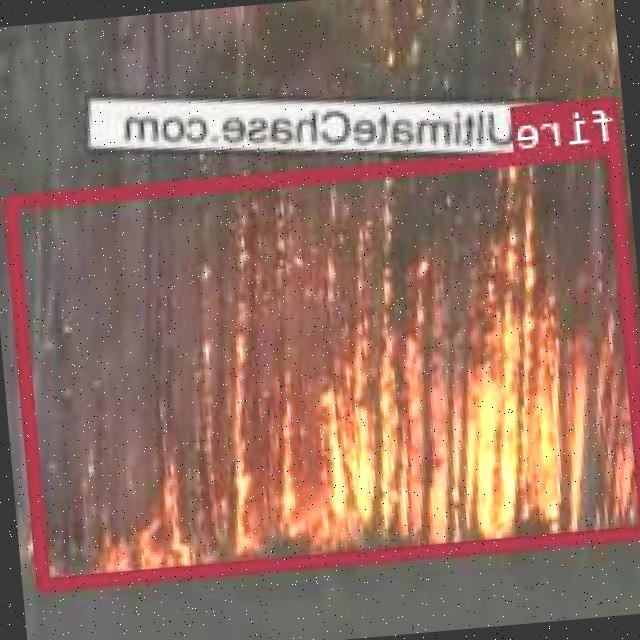fire: (5, 142, 640, 589)
